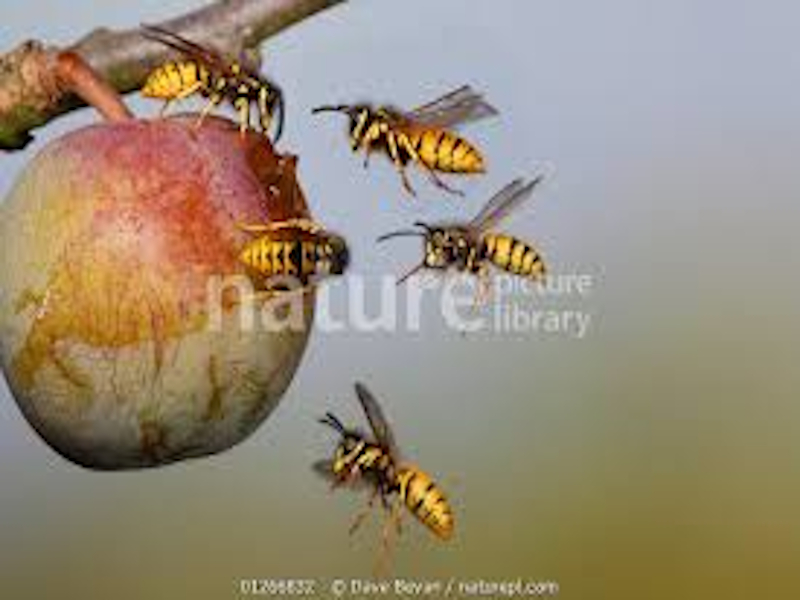chax: (311, 386, 527, 566), (313, 77, 530, 190), (136, 17, 288, 155), (390, 201, 579, 301), (209, 209, 371, 297)
